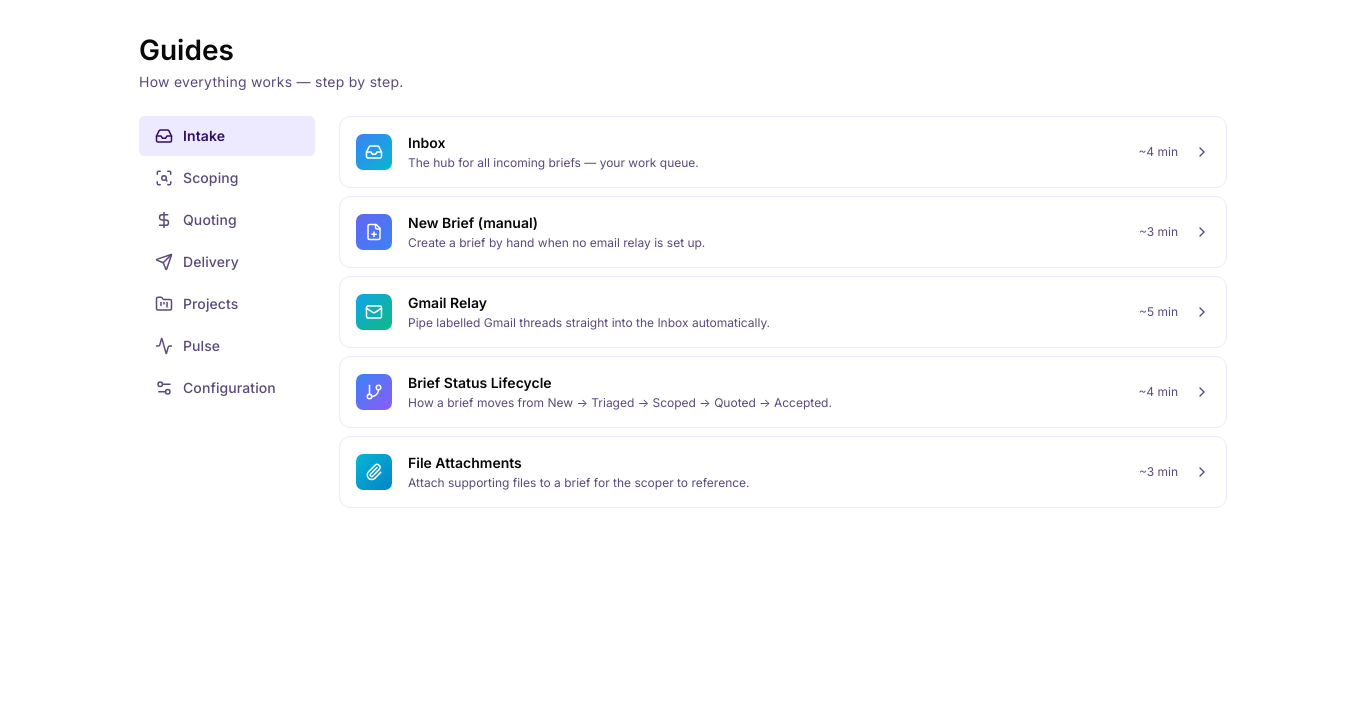
it: GuidesPage › expands a step card when clicked
The width and height of the screenshot is (1366, 724).
Expected: the text "Why this matters" is not shown
Click the text "Inbox" at point(427, 142), box [408,134,445,151]
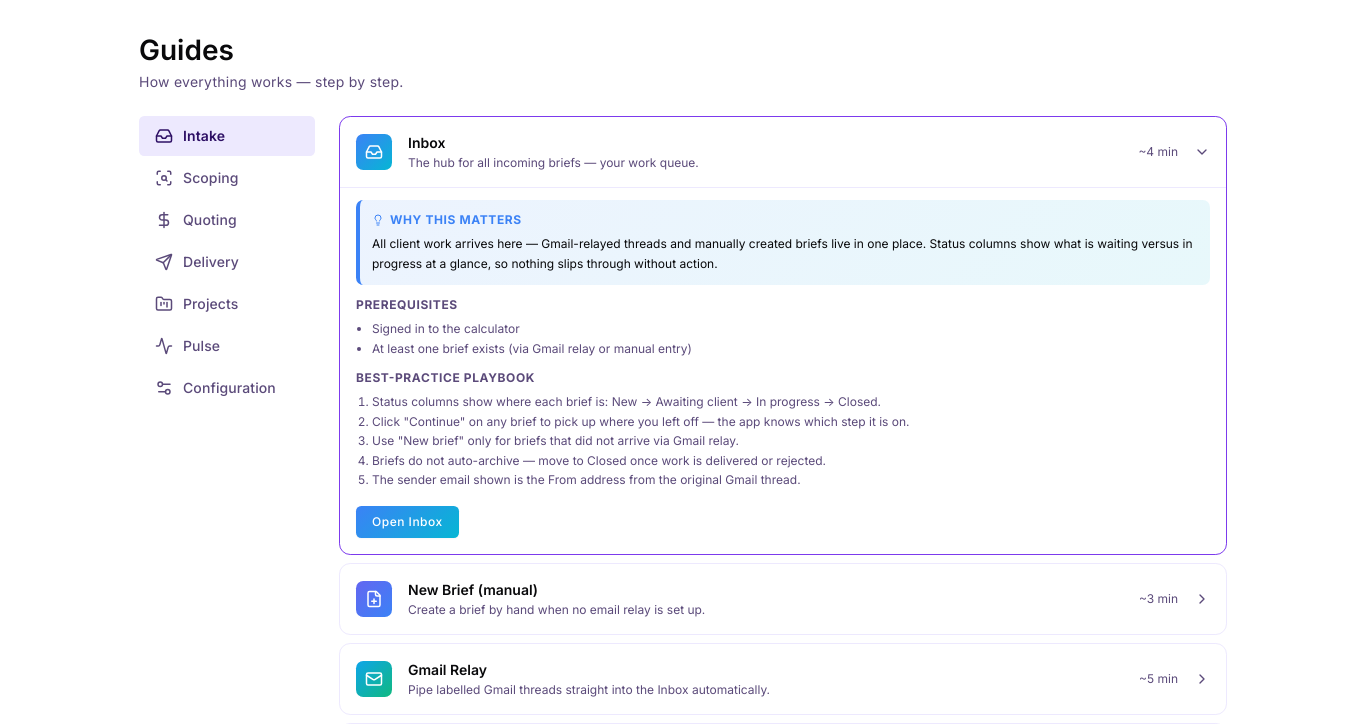
Expected: the text "Why this matters" is shown, [372,212,522,227]
